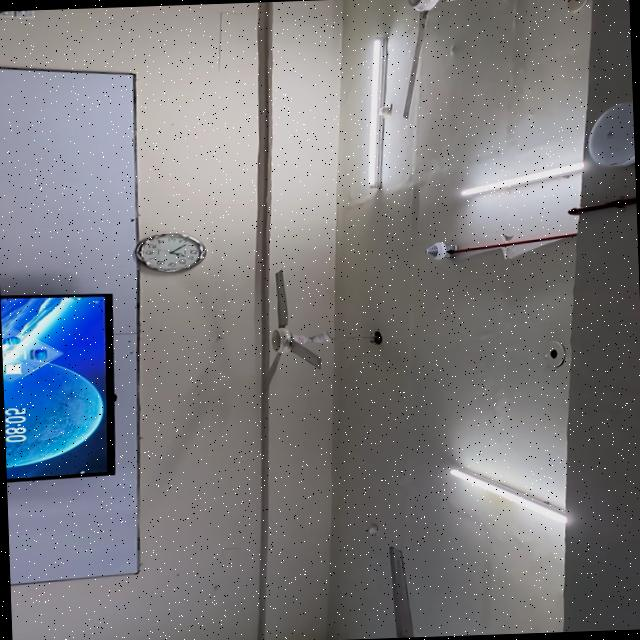Digital board: (0, 293, 116, 482)
Light: (449, 467, 566, 524), (460, 162, 583, 195), (366, 37, 390, 188)
